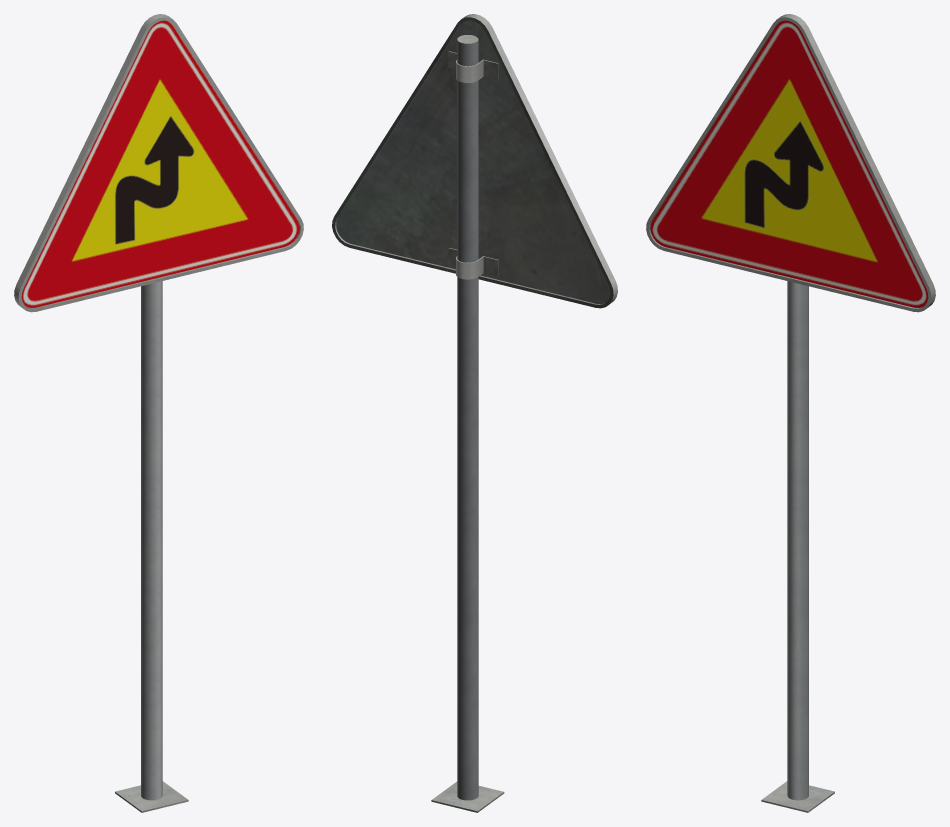
3 renders of one model, left to right at view 1: azimuth 30°, elevation 25°; view 2: azimuth 150°, elevation 25°; view 3: azimuth 330°, elevation 25°, orthographic.
Visible parts, largest first — view 1: MainBuilding; view 2: MainBuilding; view 3: MainBuilding.
Boxes of the visible parts, left/top/right/bottom form: MainBuilding: left=14, top=14, right=303, bottom=812; MainBuilding: left=332, top=14, right=617, bottom=812; MainBuilding: left=646, top=14, right=935, bottom=812.
Bounding box in the file's own units: 0.9151 × 2.41 × 0.15.
Materials: 1 (1 with a texture image).
